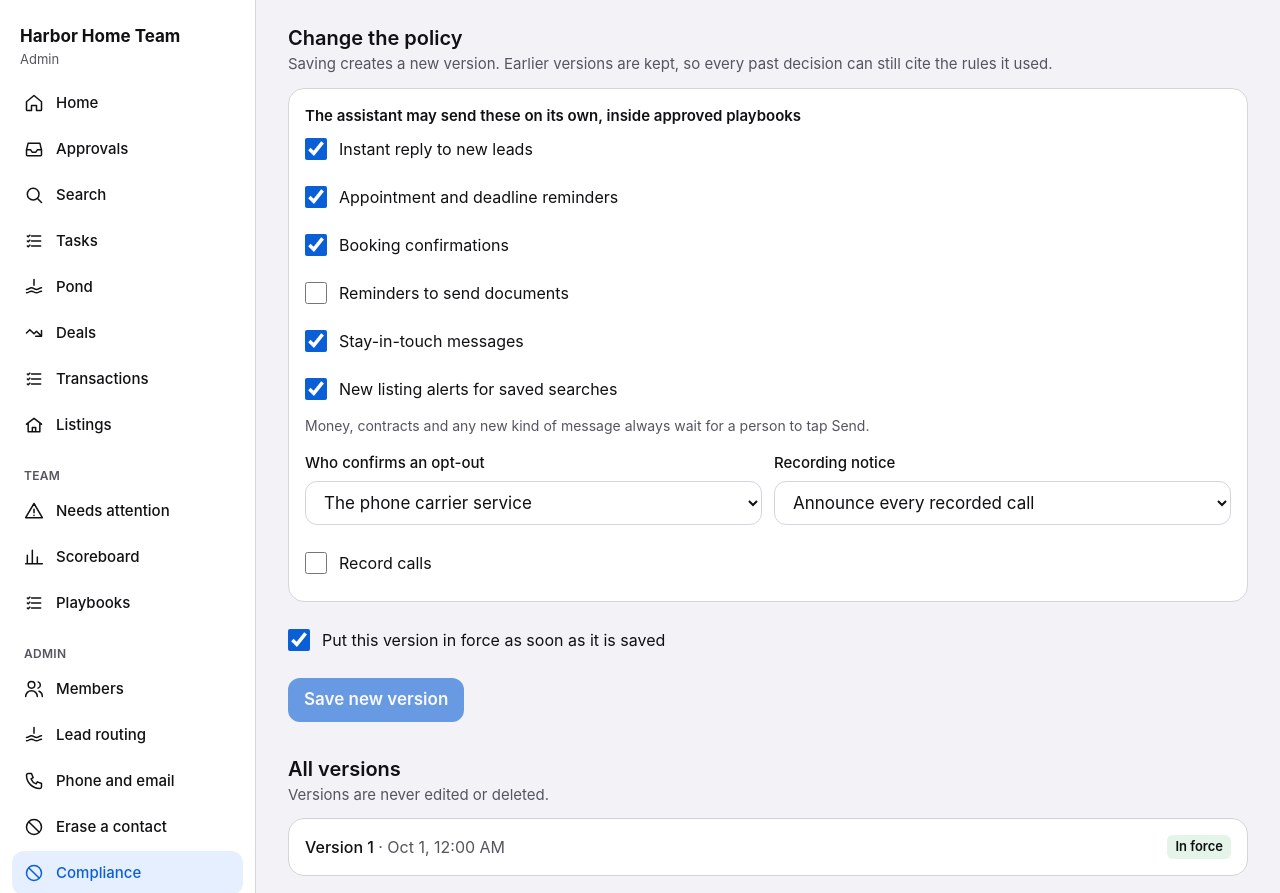
Compliance policy › a looser change by an Admin is explained and cannot be submitted
The width and height of the screenshot is (1280, 893).
(page scrolled)
Click the checkbox labelled "Record calls".
click(316, 562)  # box x1=305 y1=552 x2=327 y2=574
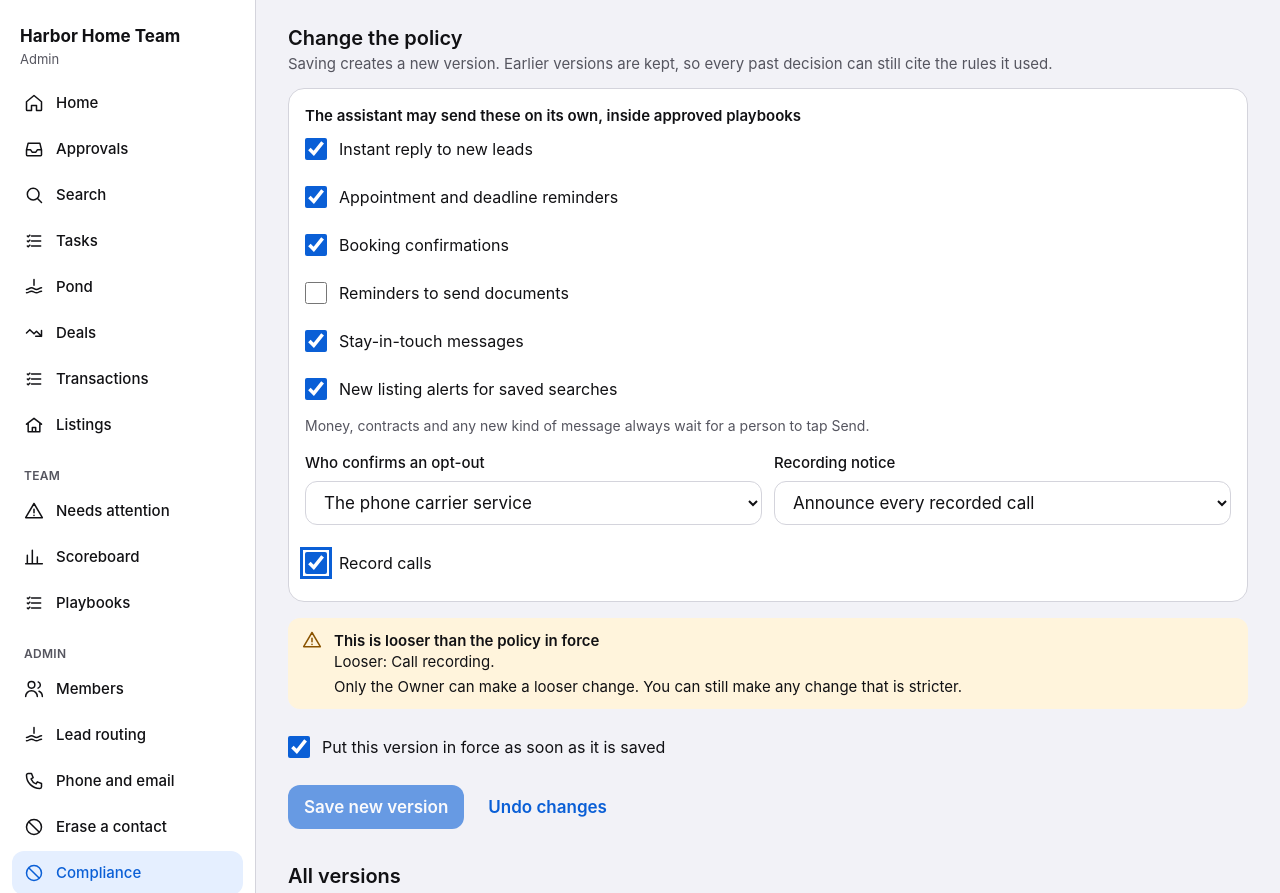
Expected: the button "Save new version" is disabled, x1=288 y1=785 x2=464 y2=829
Expected: the text "This is looser than the policy in force" is shown, x1=334 y1=630 x2=599 y2=650
Expected: the text "Only the Owner can make a looser change. You can still make any change that is stricter." is shown, x1=334 y1=677 x2=962 y2=696
